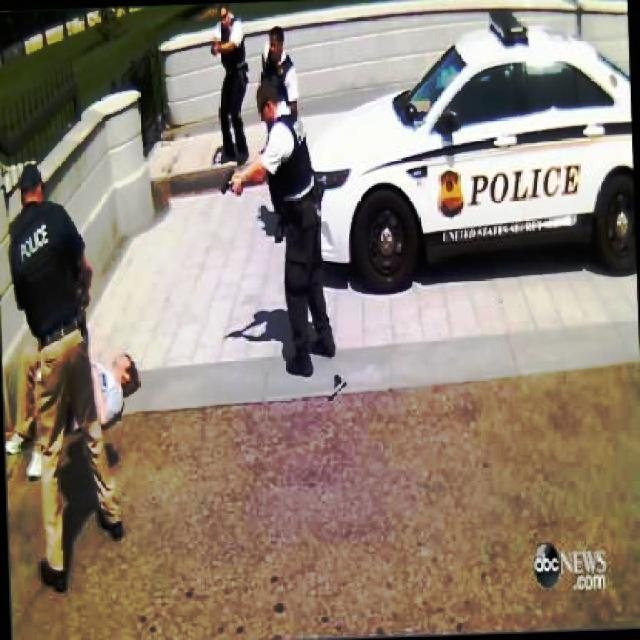Gun: (216, 165, 251, 201)
